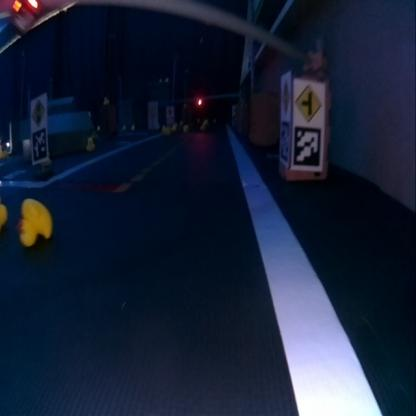Duckie: (18, 198, 52, 245), (86, 138, 94, 150)
Intersection sign: (293, 79, 324, 122)
QR code: (292, 131, 320, 168), (279, 119, 290, 164), (32, 130, 47, 160)
Signal sign: (30, 98, 46, 126)
Traffic light: (196, 97, 202, 105)
